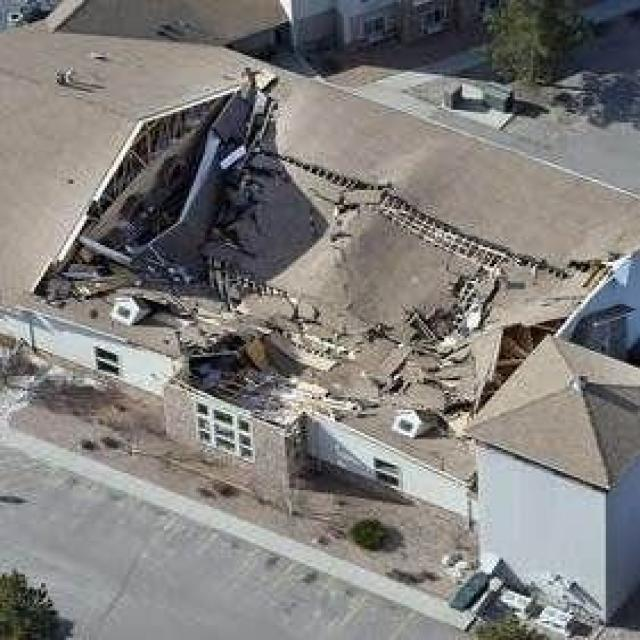collapsed_building: (89, 74, 565, 490)
